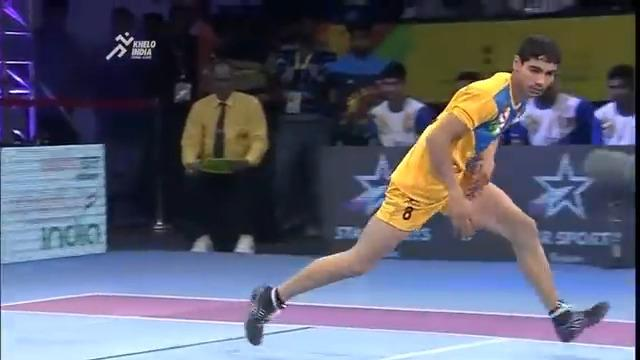Raider: (243, 33, 610, 347)
referee: (90, 5, 175, 230), (179, 59, 270, 253), (29, 0, 99, 144)
